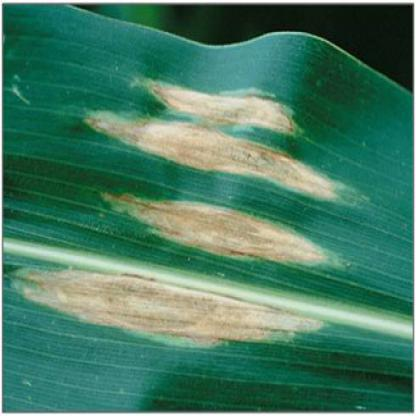corn leaf blight: (7, 13, 415, 396)
